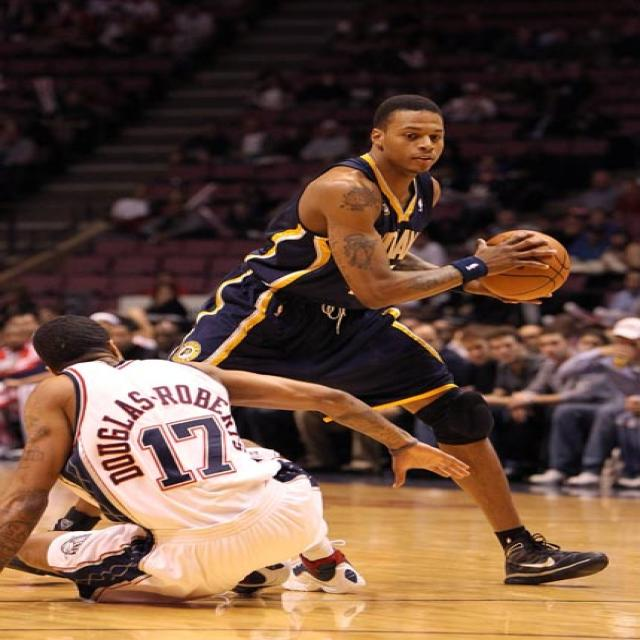10-: (0, 0, 638, 597)
down: (25, 308, 329, 596)
